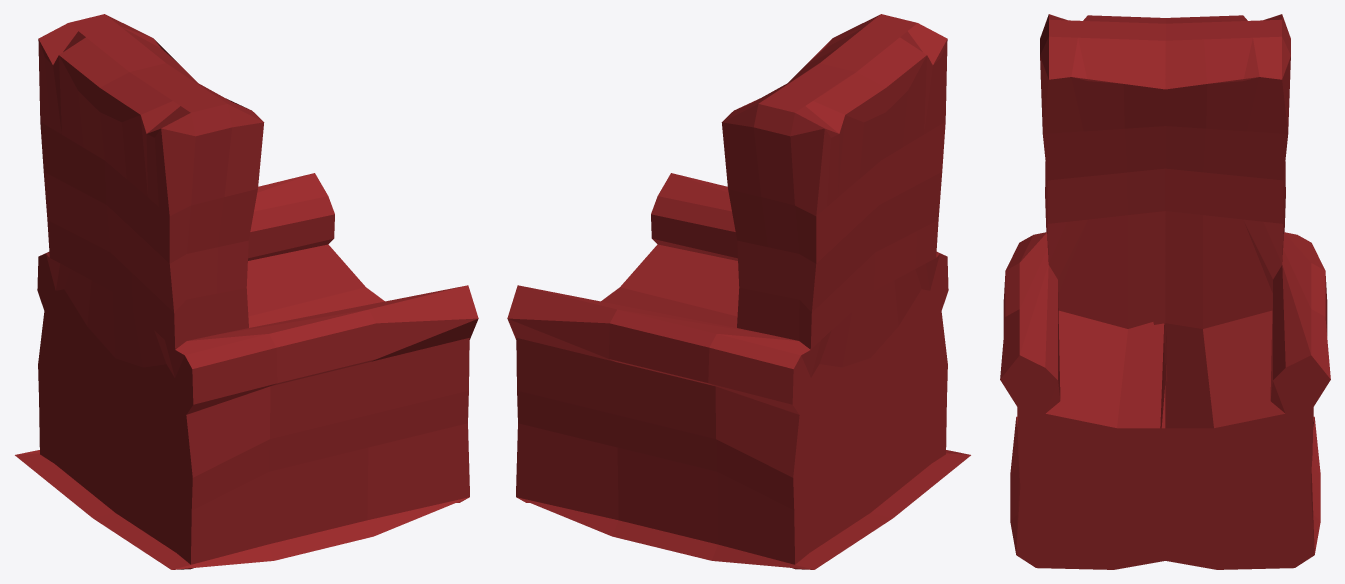
File: couch.fbx
3 renders of one model, left to right at view 1: azimuth 30°, elevation 25°; view 2: azimuth 150°, elevation 25°; view 3: azimuth 270°, elevation 25°, orthographic. The views are drawn at different scales.
Parts seen in each view (by area): view 1: Cube; view 2: Cube; view 3: Cube.
Part boxes in pixels (x1,y1,x2,y2): Cube: (15, 14, 478, 569); Cube: (507, 14, 970, 569); Cube: (1000, 14, 1330, 569).
Bounding box in the file's own units: 255 × 369 × 257.
